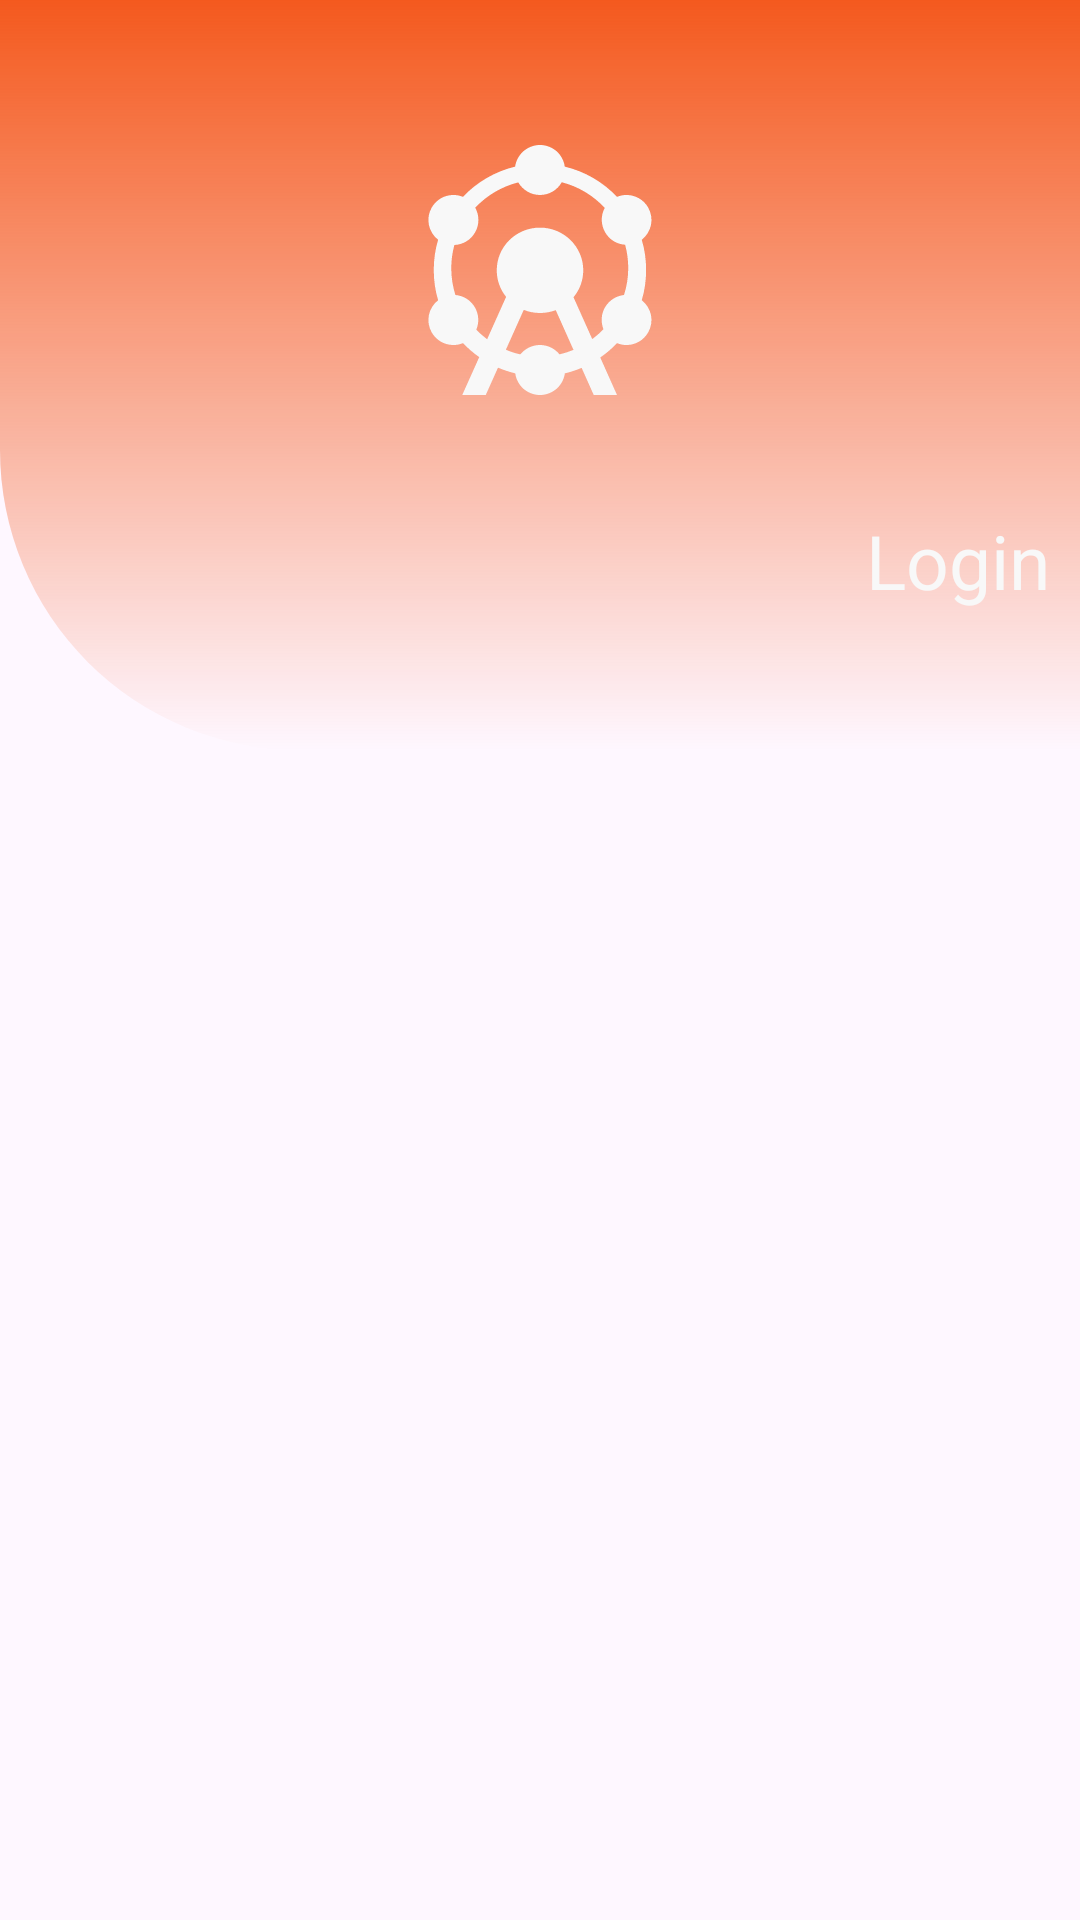

Named icons in this screenshot (1080 × 1920) and their centers, (x=x, y=y):
attractions: (x=540, y=270)
